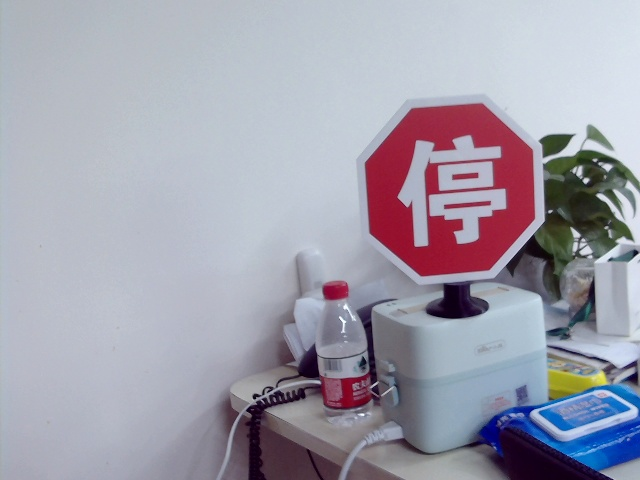stop: (400, 137, 508, 242)
